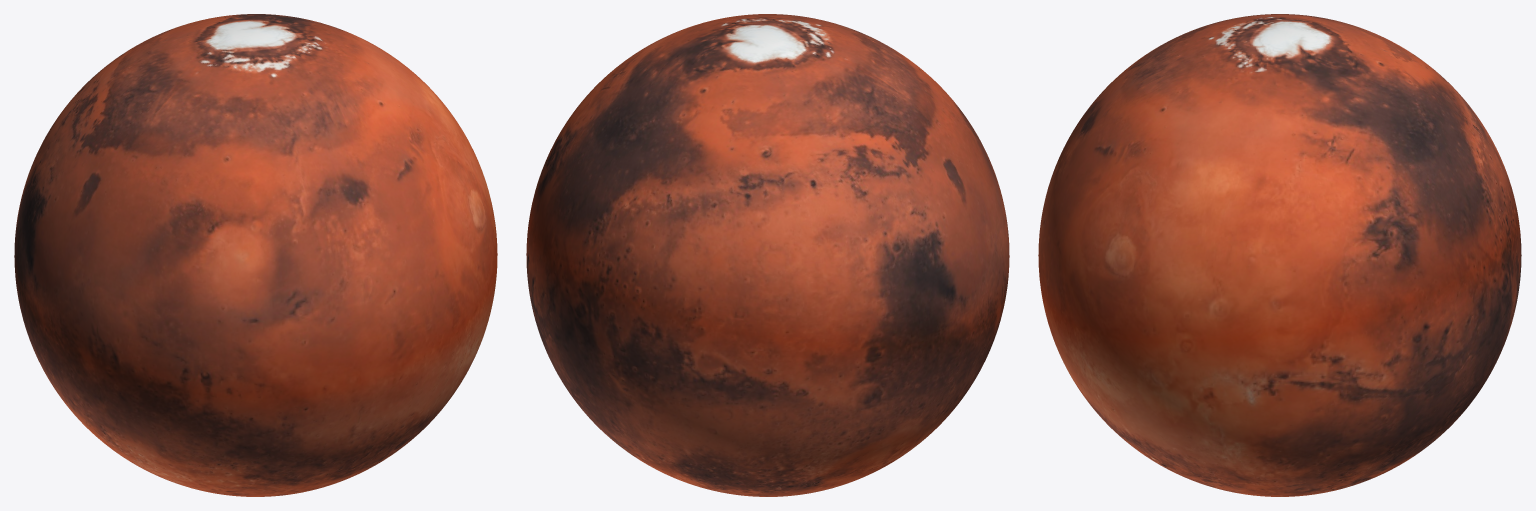
3 views of the same model, side by side, from view 1: azimuth 30°, elevation 25°; view 2: azimuth 150°, elevation 25°; view 3: azimuth 270°, elevation 25° (orthographic).
Parts seen in each view (by area): view 1: ActualMars_Baked; view 2: ActualMars_Baked; view 3: ActualMars_Baked.
Boxes of the visible parts, x1,y1,x2,y2 form: ActualMars_Baked: (14, 14, 497, 496); ActualMars_Baked: (526, 14, 1009, 496); ActualMars_Baked: (1038, 14, 1521, 496).
Bounding box in the file's own units: 336 × 336 × 336.
Materials: 1 (1 with a texture image).
